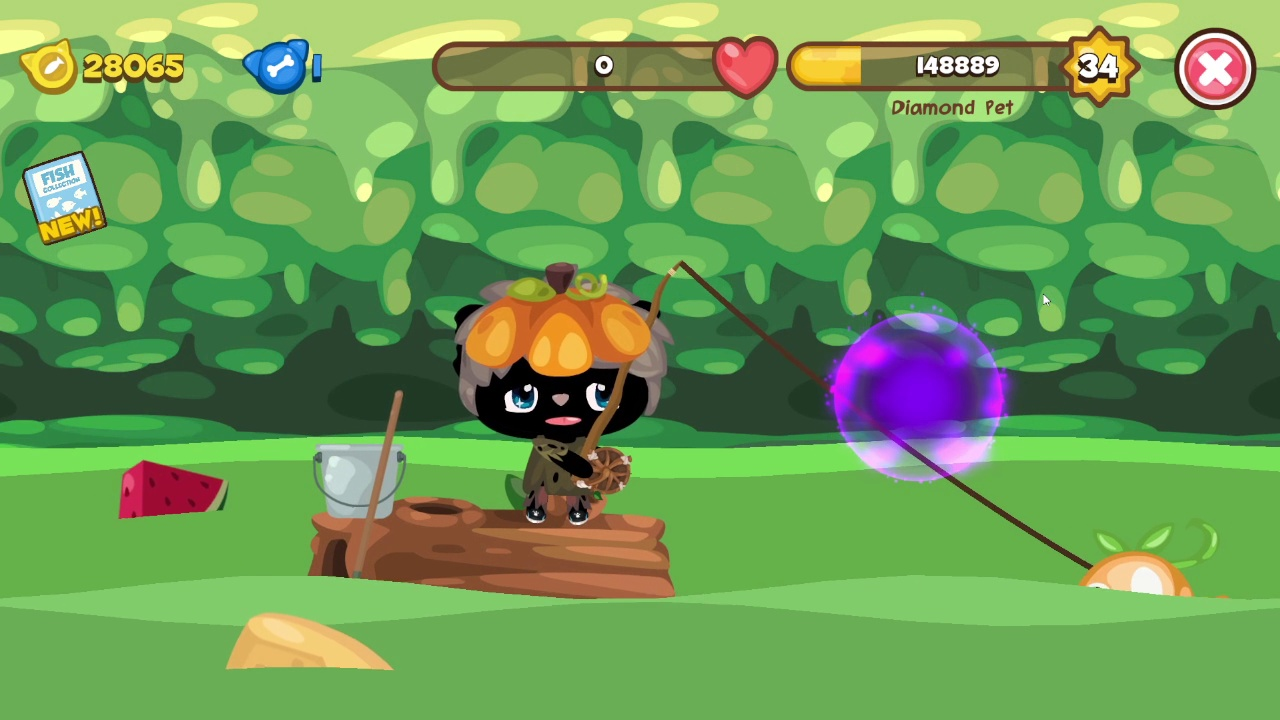point: (829, 311, 1008, 481)
